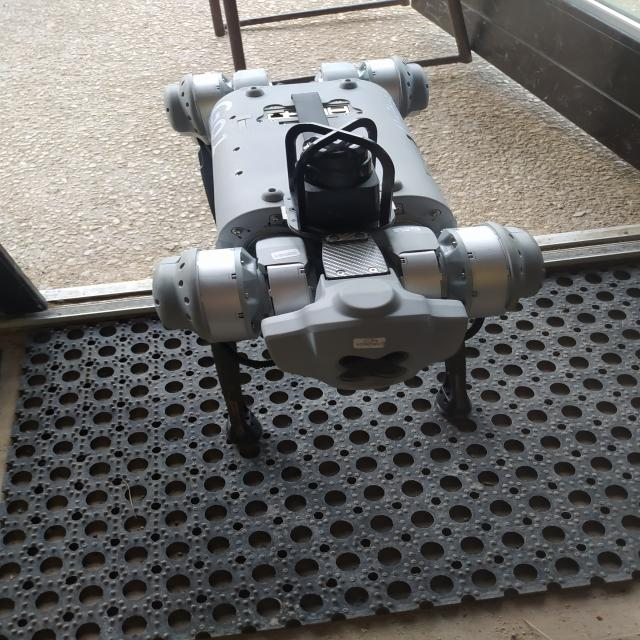unitree-go1-robot: (166, 62, 532, 448)
